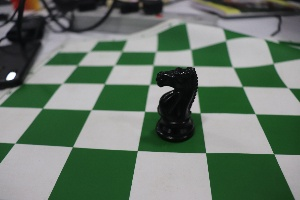black_horse: (149, 52, 209, 144)
